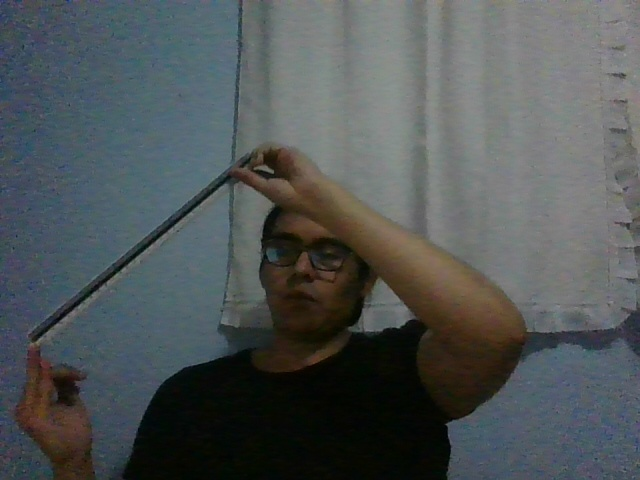regla: (26, 152, 253, 347)
